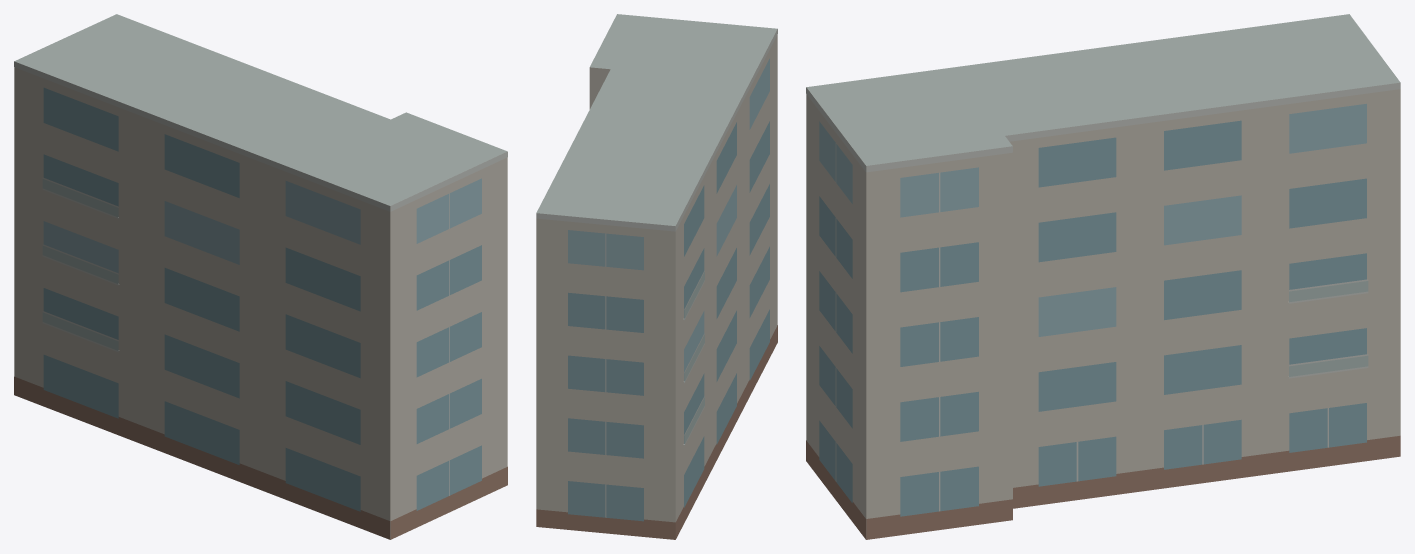
Rendered from survey-upis-32986748.glb.
3 views of the same model, side by side, from view 1: azimuth 30°, elevation 25°; view 2: azimuth 150°, elevation 25°; view 3: azimuth 270°, elevation 25° (orthographic). The views are drawn at different scales.
Visible parts, largest first — view 1: survey-upis-32986748.tmp; view 2: survey-upis-32986748.tmp; view 3: survey-upis-32986748.tmp.
Part boxes in pixels (left/top/right/bottom): survey-upis-32986748.tmp: left=14, top=14, right=507, bottom=539; survey-upis-32986748.tmp: left=536, top=14, right=777, bottom=539; survey-upis-32986748.tmp: left=806, top=14, right=1400, bottom=539.
Bounding box in the file's own units: 12.3 × 14.1 × 20.32.
